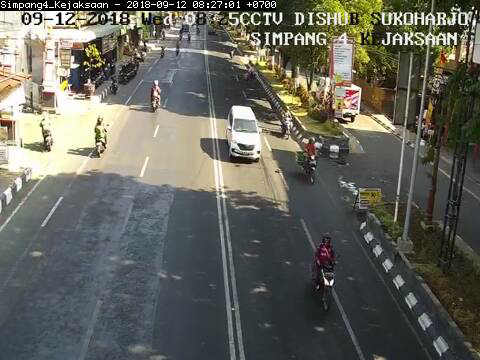motor: (310, 229, 342, 314), (296, 135, 322, 184), (277, 104, 296, 140)
